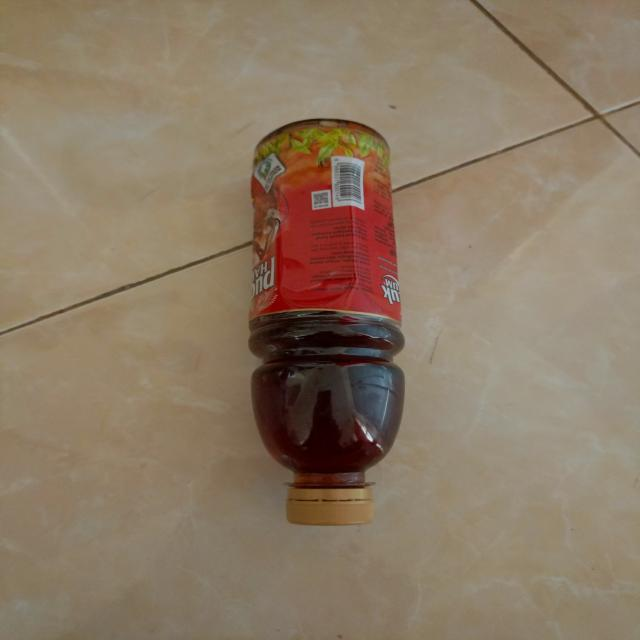teh-pucuk: (247, 117, 408, 529)
